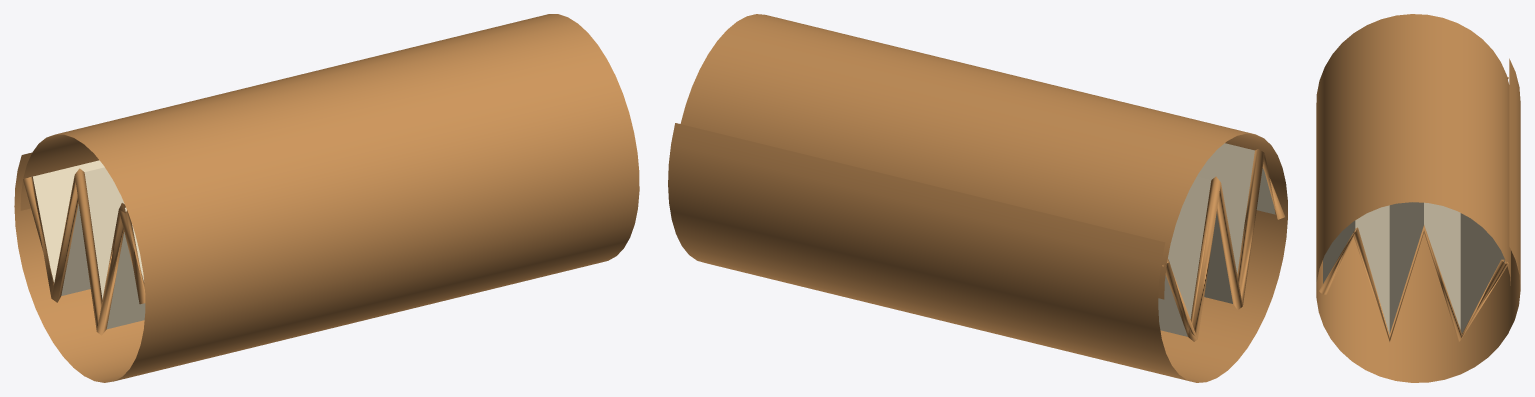
The model's file is filter_tip.glb.
3 renders of one model, left to right at view 1: azimuth 30°, elevation 25°; view 2: azimuth 150°, elevation 25°; view 3: azimuth 270°, elevation 25°, orthographic. The views are drawn at different scales.
Visible parts, largest first — view 1: Filter; view 2: Filter; view 3: Filter.
Part boxes in pixels (bbox=[...]): Filter: bbox=[14, 14, 639, 382]; Filter: bbox=[668, 14, 1287, 382]; Filter: bbox=[1316, 14, 1520, 382].
Size of the model in its own units: 0.0221 by 0.00986 by 0.0101.
